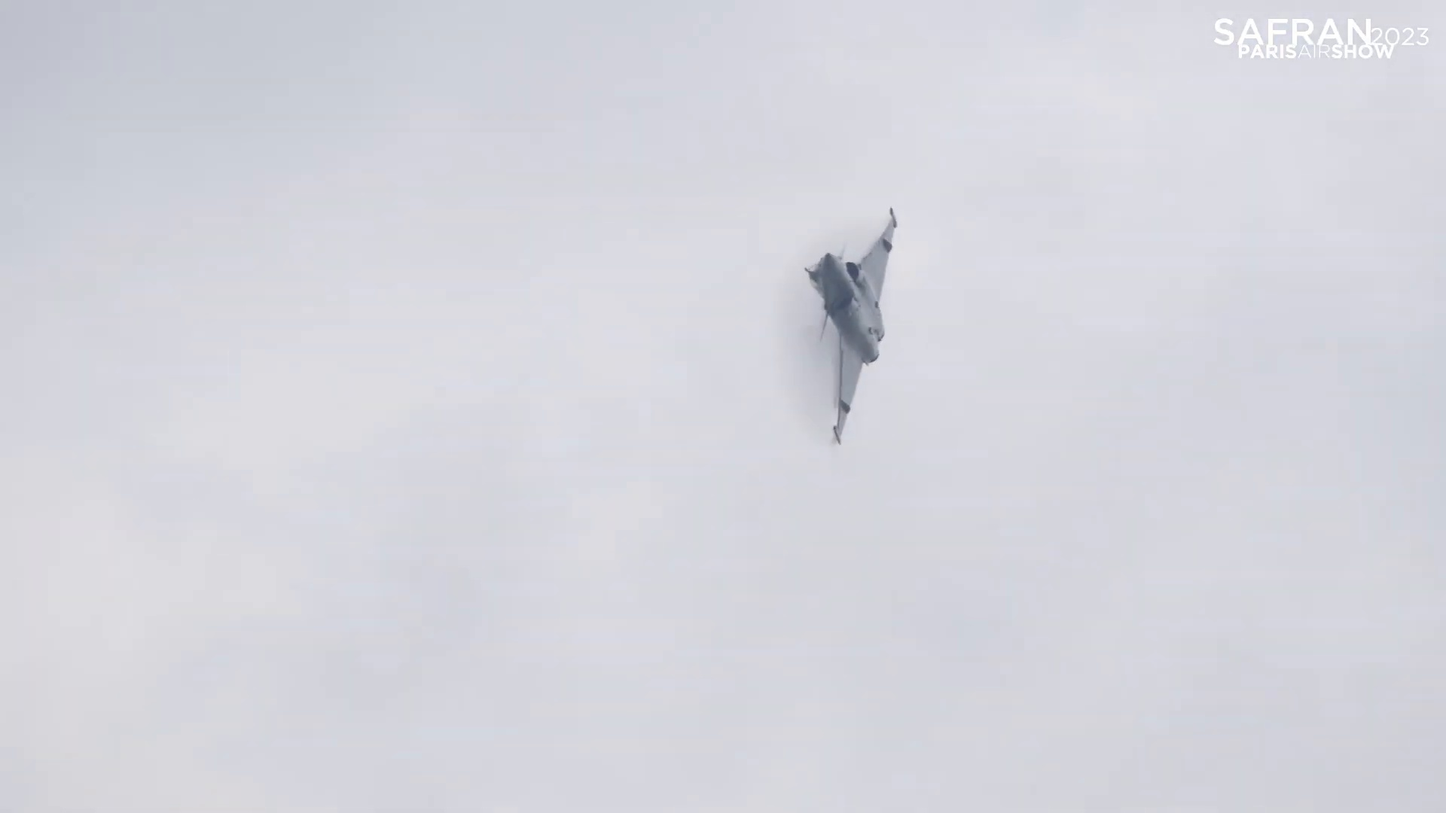Rafale: (801, 210, 905, 455)
